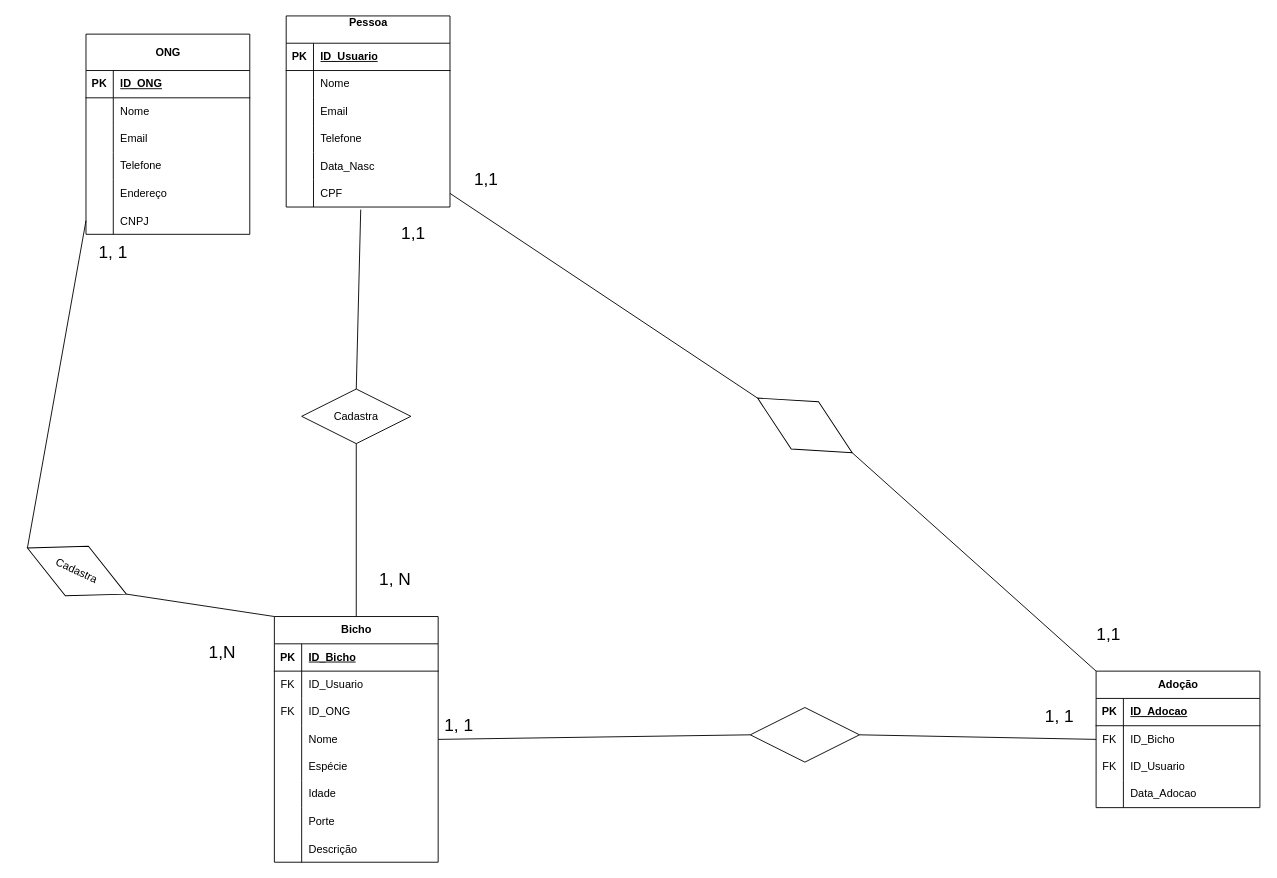
This 1277x878 diagram has some shape labels left out. The shapes that lost their labels are listed below. From the top down, each one's centre as x and y in pixels, then its label:
(804,424): Adota
(804,734): É adotado
